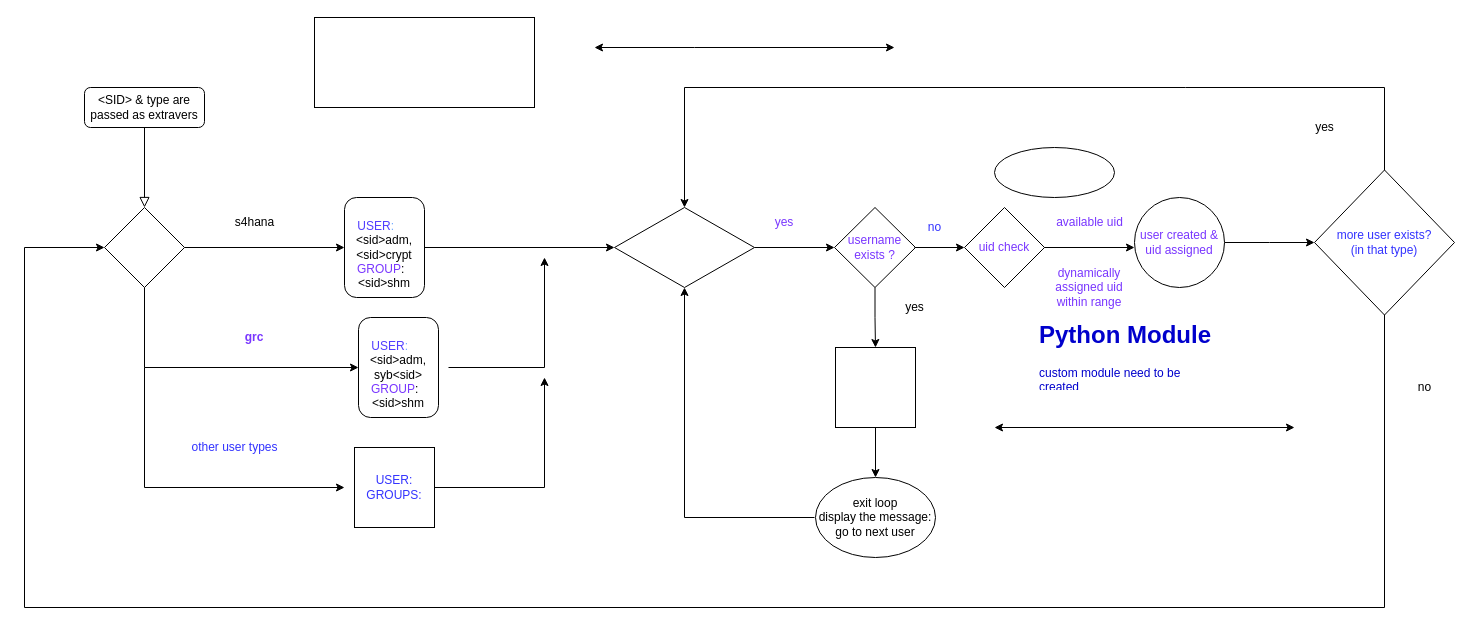
Image size: 1472x633. Some labels were removed from this diagram. Each missing label, with the centre of its shape:
"new" goes at point (1054, 172).
"systems: managed_systems: - sapid: S4B type: S4HANA" goes at point (424, 62).
"user exists in the ad" goes at point (875, 387).
"USER to be checked in ad" goes at point (684, 247).
"UserType" goes at point (144, 247).
